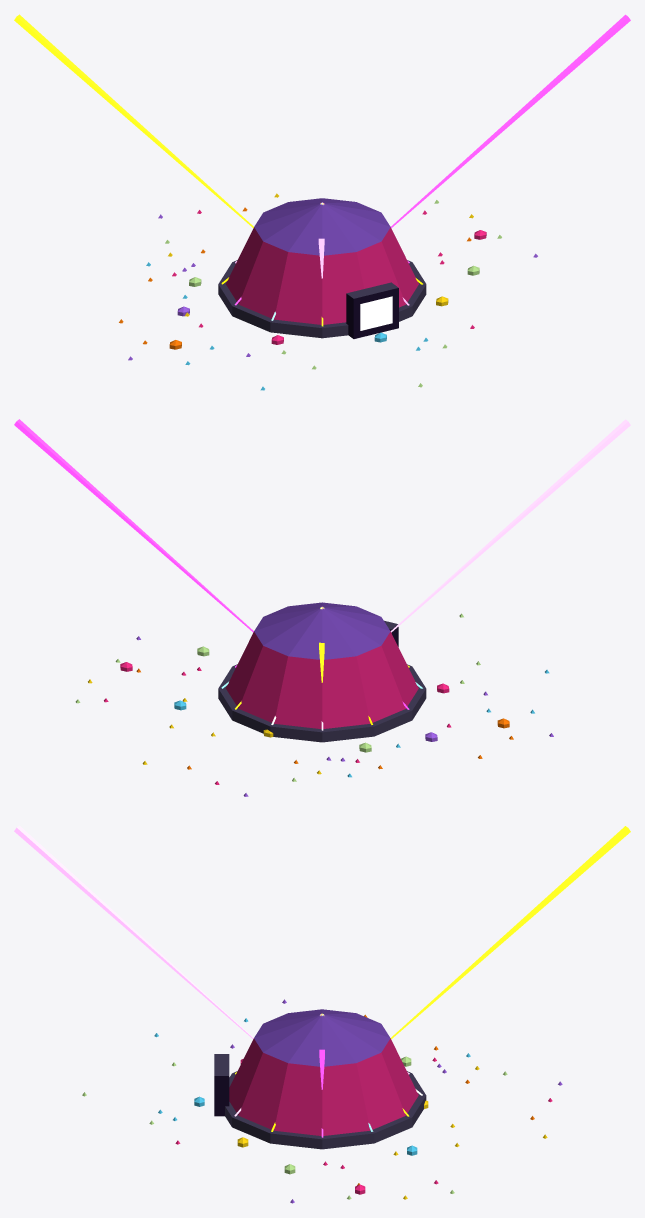
The model's file is W6_Mid_Stage_B.fbx.
3 renders of one model, top to bottom at view 1: azimuth 30°, elevation 25°; view 2: azimuth 150°, elevation 25°; view 3: azimuth 270°, elevation 25°, orthographic.
Parts seen in each view (by area): view 1: W6_Mid_Stage_B; view 2: W6_Mid_Stage_B; view 3: W6_Mid_Stage_B.
Boxes of the visible parts, bbox=[...] form: W6_Mid_Stage_B: bbox=[14, 14, 630, 390]; W6_Mid_Stage_B: bbox=[14, 419, 630, 796]; W6_Mid_Stage_B: bbox=[14, 825, 630, 1203].
Size of the model in its own units: 162 by 60.66 by 166.
